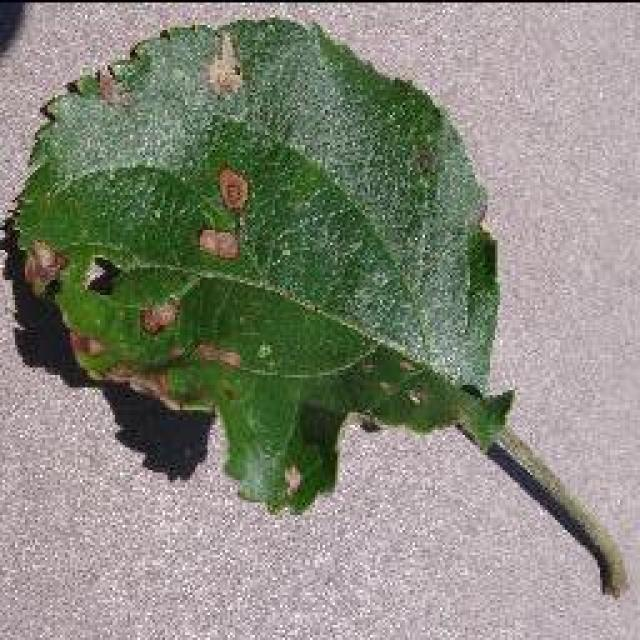Black_rot: (0, 15, 625, 597)
